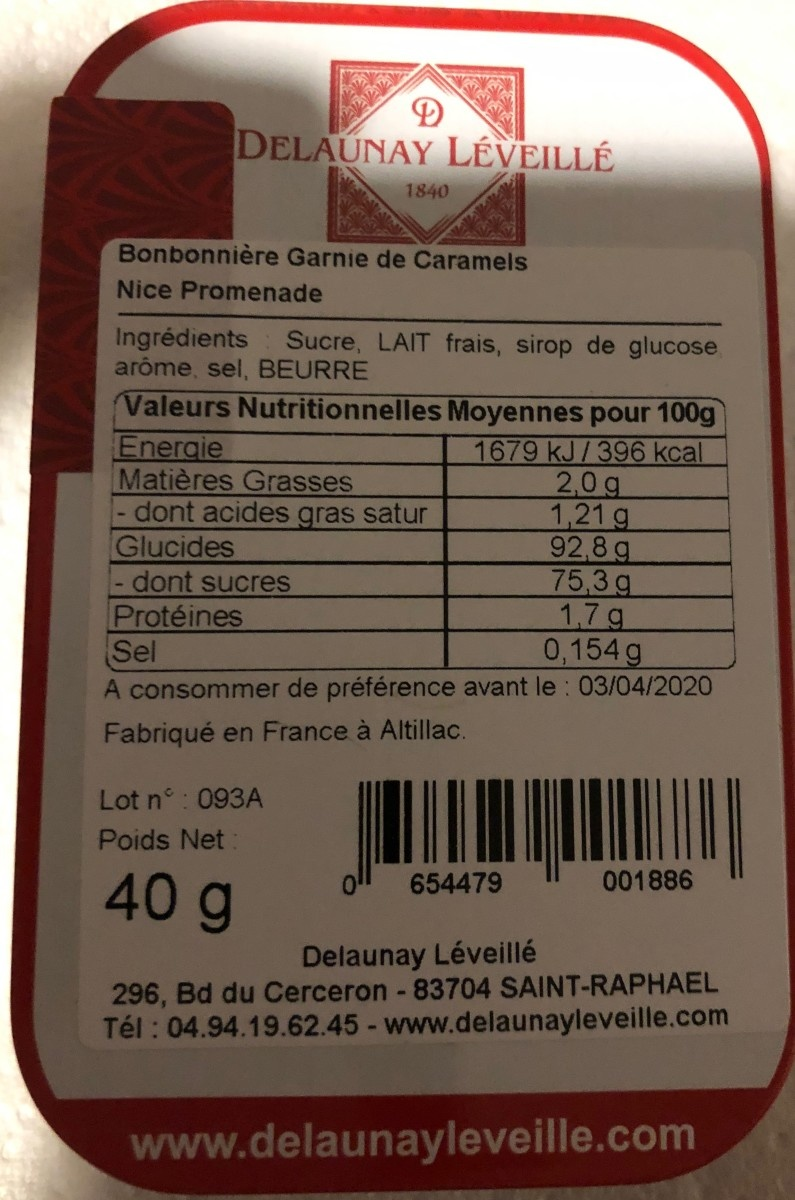column: (113, 434, 428, 664), (469, 439, 705, 664)
table: (102, 385, 740, 677)
